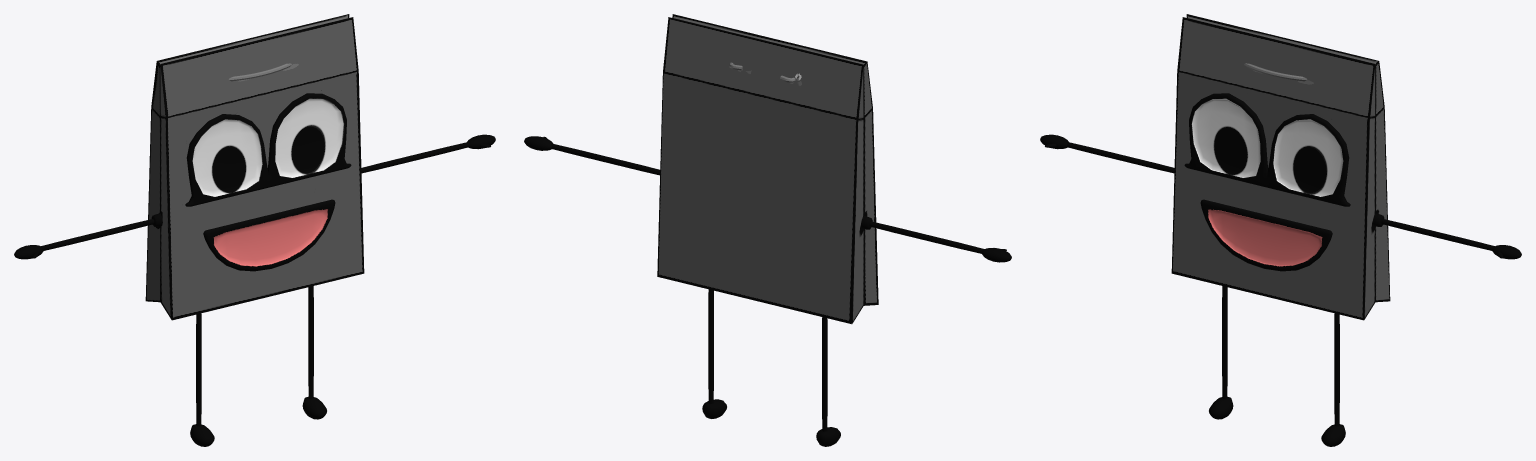
The model's file is Earl_ShadedTrial_Body.fbx.
3 renders of one model, left to right at view 1: azimuth 30°, elevation 25°; view 2: azimuth 150°, elevation 25°; view 3: azimuth 330°, elevation 25°, orthographic.
Visible parts, largest first — view 1: Teabag_Body, Teabag_Face; view 2: Teabag_Body; view 3: Teabag_Body, Teabag_Face.
Boxes of the visible parts, <box> form: Teabag_Body: <box>14,14,495,446</box>; Teabag_Face: <box>185,93,351,271</box>; Teabag_Body: <box>524,14,1011,446</box>; Teabag_Body: <box>1040,14,1521,446</box>; Teabag_Face: <box>1184,93,1350,271</box>.
Bounding box in the file's own units: 19.43 × 15.04 × 2.11.
